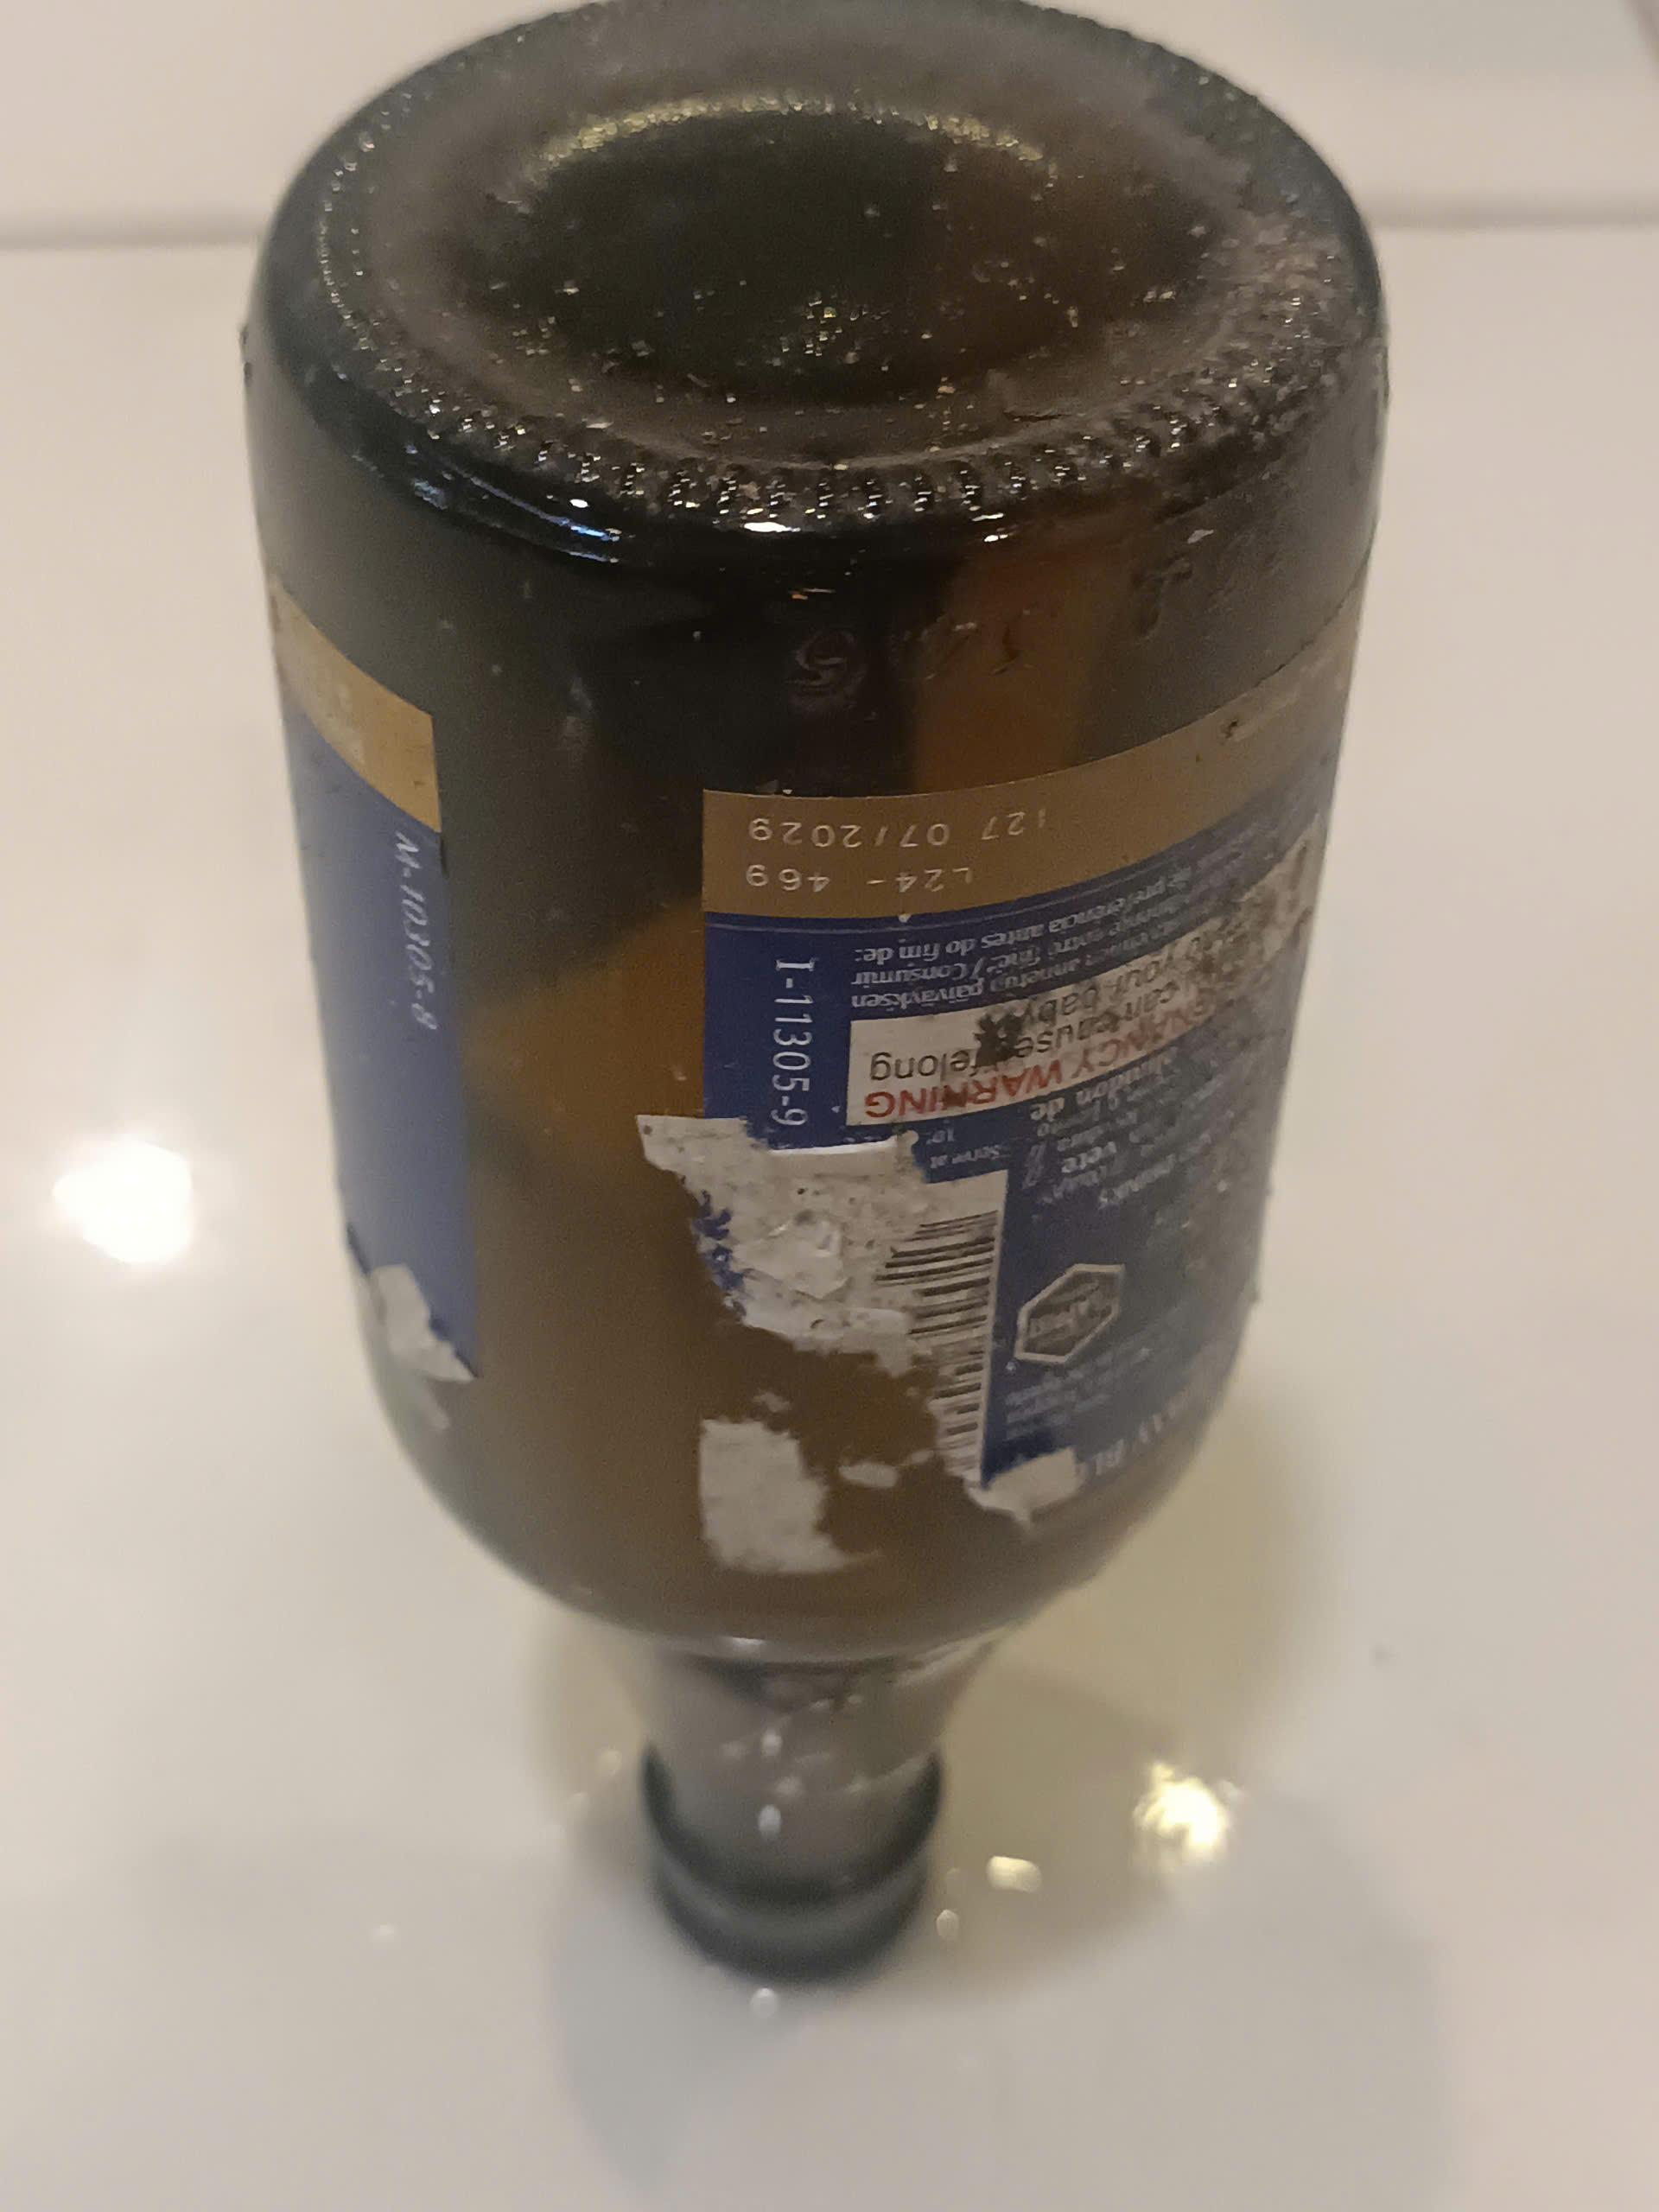Vo co: (242, 9, 1406, 1975)
